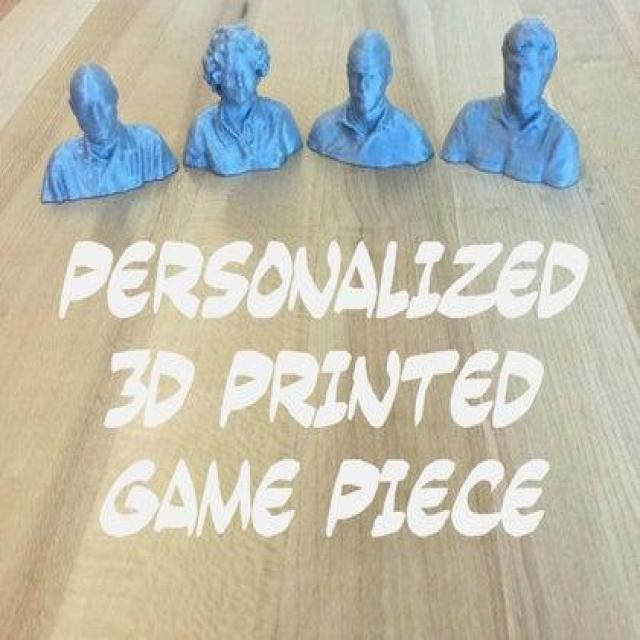Without deffect: (43, 11, 605, 209)
